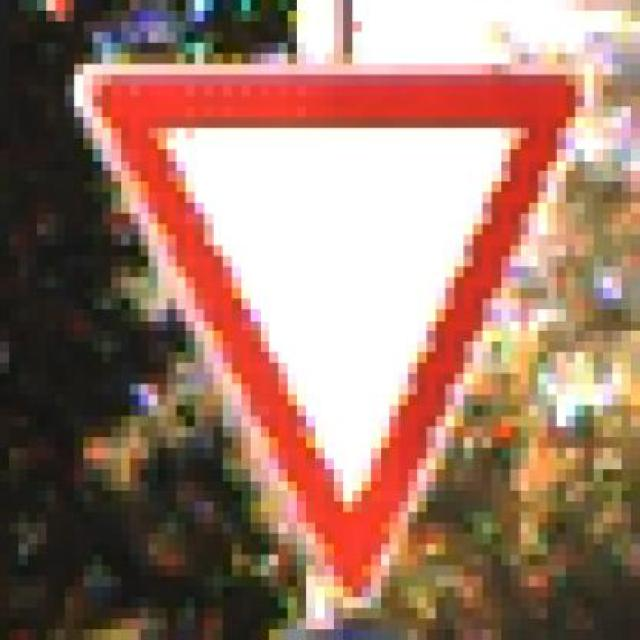Give Way: (65, 42, 603, 598)
